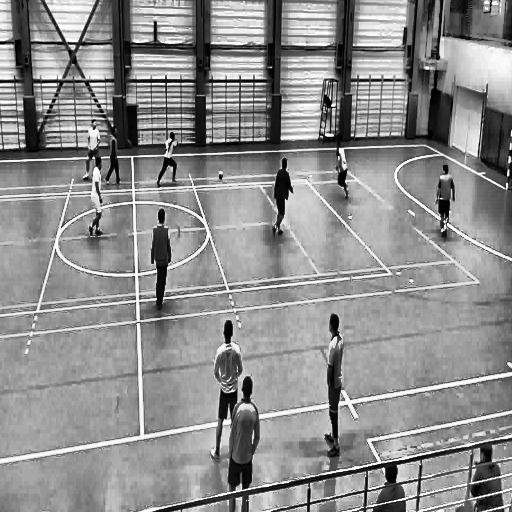ball: (217, 169, 225, 182)
player: (223, 375, 260, 512), (209, 318, 241, 462), (320, 312, 344, 462), (150, 207, 173, 318), (270, 155, 294, 241), (433, 162, 457, 240), (88, 154, 105, 238), (156, 130, 179, 190), (104, 125, 124, 188), (82, 117, 102, 179), (334, 138, 352, 201), (506, 130, 512, 200)
